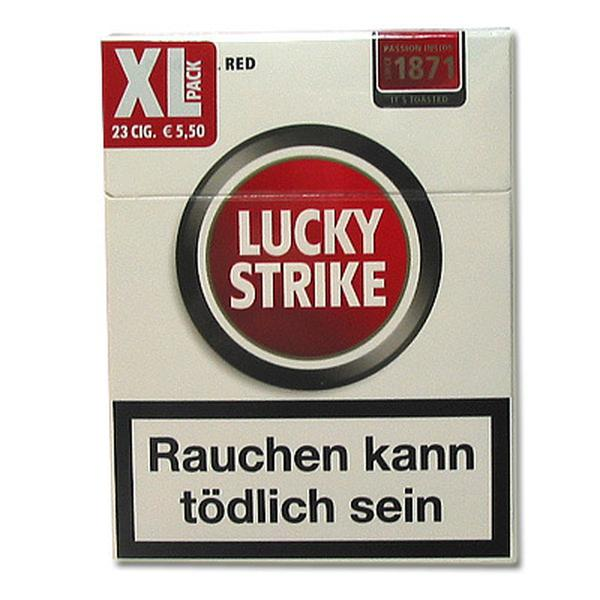lucky_strike_red: (112, 44, 520, 561)
